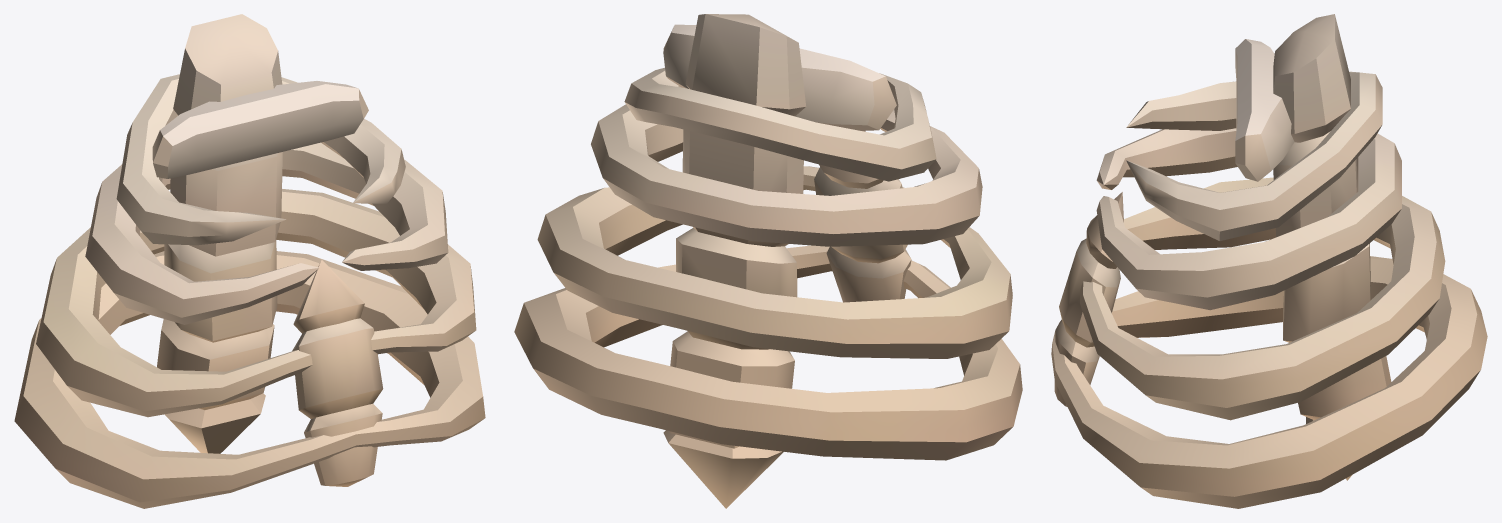
The model's file is ribcage.glb.
3 views of the same model, side by side, from view 1: azimuth 30°, elevation 25°; view 2: azimuth 150°, elevation 25°; view 3: azimuth 270°, elevation 25° (orthographic). The views are drawn at different scales.
Parts seen in each view (by area): view 1: ribcage; view 2: ribcage; view 3: ribcage.
Part boxes in pixels (x1,y1,x2,y2): ribcage: [14, 14, 485, 508]; ribcage: [514, 14, 1022, 508]; ribcage: [1051, 14, 1487, 508].
Bounding box in the file's own units: 0.8456 × 0.8582 × 0.7469.
Materials: 1 (1 with a texture image).
